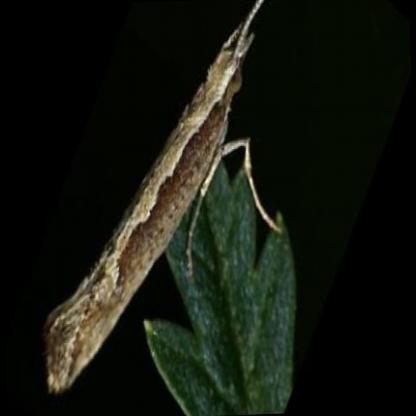plutella: (38, 0, 297, 404)
